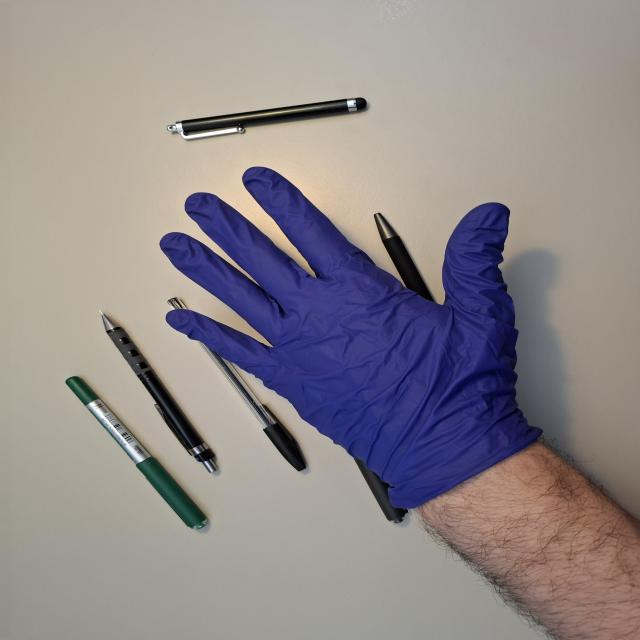glove_on: (154, 163, 535, 515)
